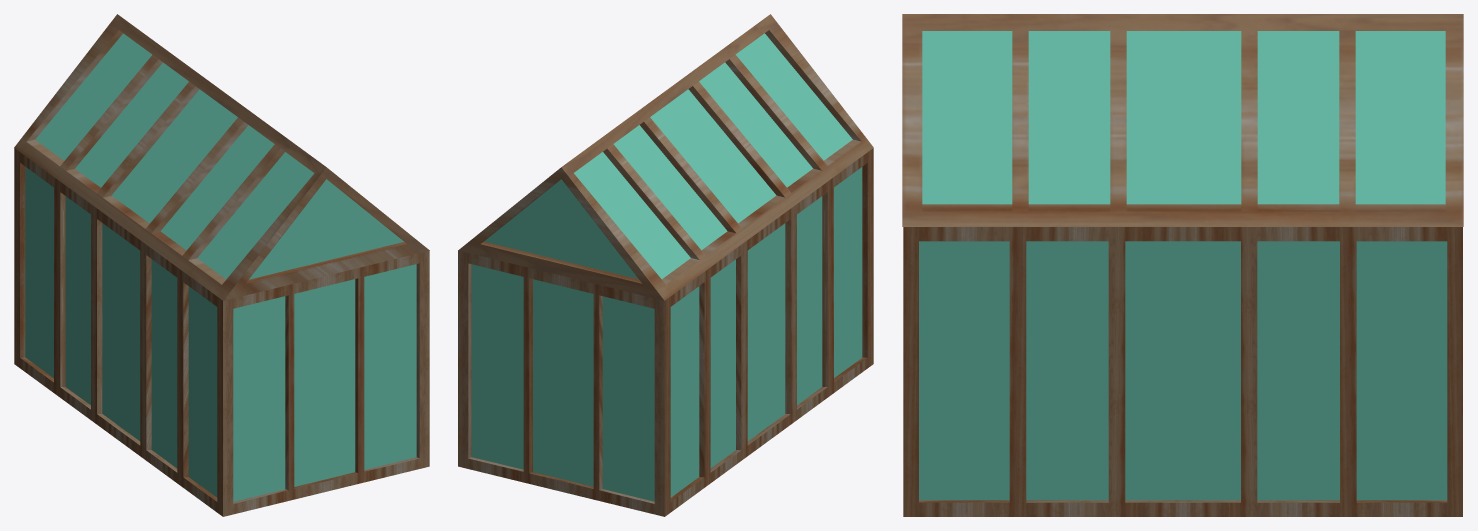
File: glass_house.glb
The picture shows the model from 3 angles, left to right: view 1: azimuth 30°, elevation 25°; view 2: azimuth 150°, elevation 25°; view 3: azimuth 270°, elevation 25°; orthographic projection. The views are drawn at different scales.
Visible parts, largest first — view 1: LOW_M; view 2: LOW_M; view 3: LOW_M.
Part boxes in pixels (x1,y1,x2,y2): LOW_M: (14,14,429,516); LOW_M: (458,14,873,516); LOW_M: (902,14,1463,516).
Size of the model in its own units: 2 by 3 by 3.51.
Materials: 3 (3 with a texture image).
